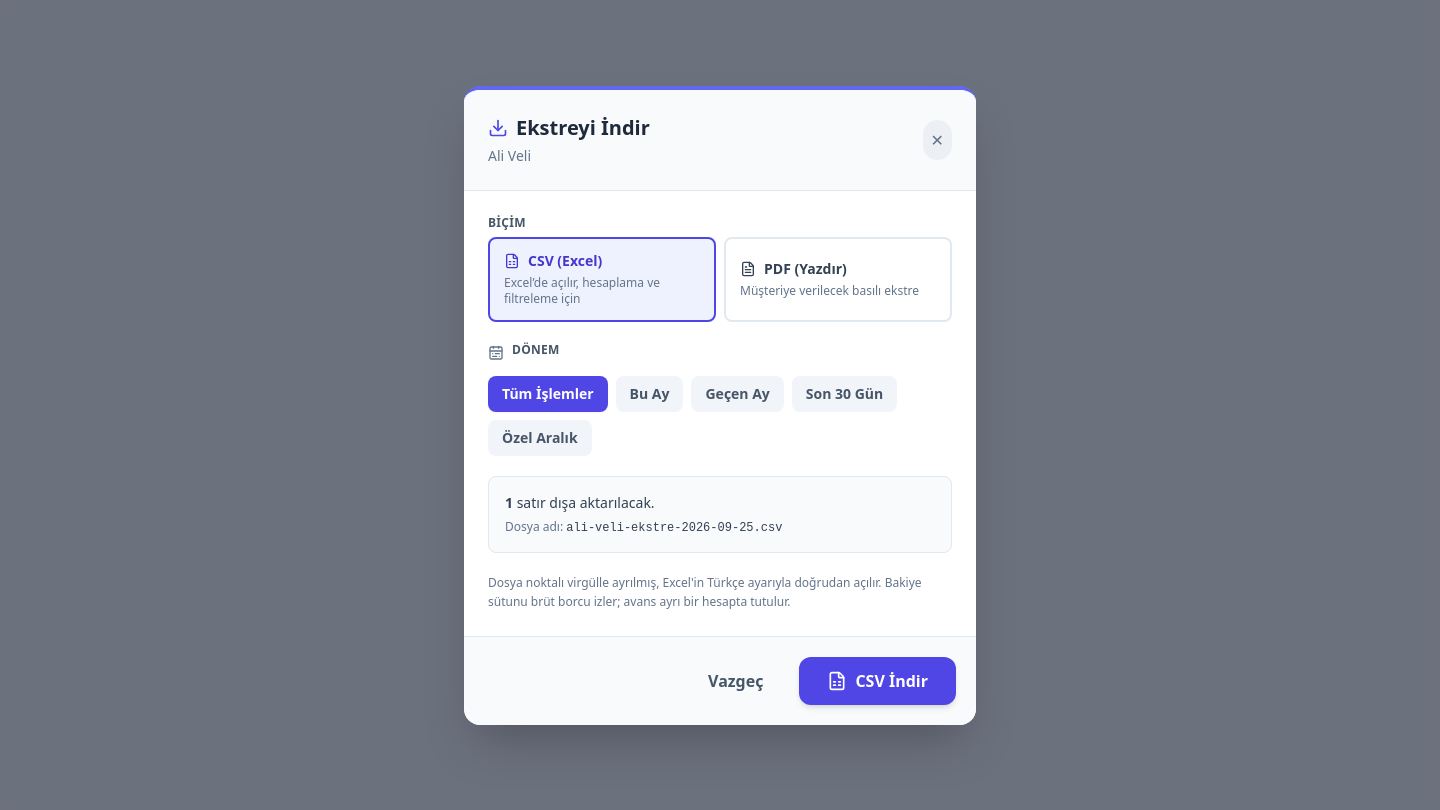
StatementExportModal — PDF bicimi › PDF secilince buton ve dosya adi uzantisi degisir
The width and height of the screenshot is (1440, 810).
Click the button "PDF (Yazdır) Müşteriye verilecek basılı ekstre": [838, 279] box [724, 236, 952, 322]
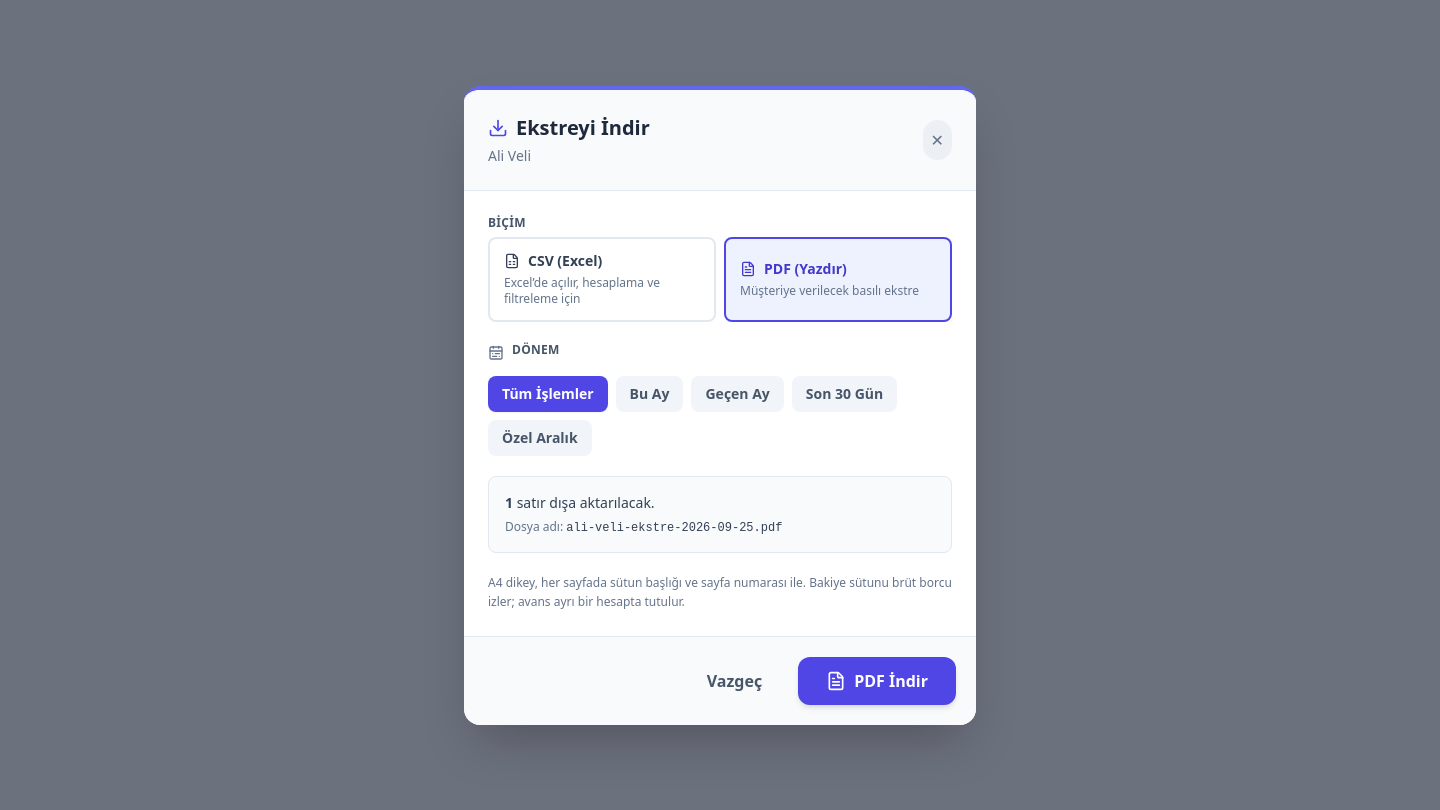
Now the button "PDF İndir" is shown, box [798, 656, 956, 704]
Now the text "ali-veli-ekstre-2026-09-25.pdf" is shown, box [566, 520, 782, 534]
